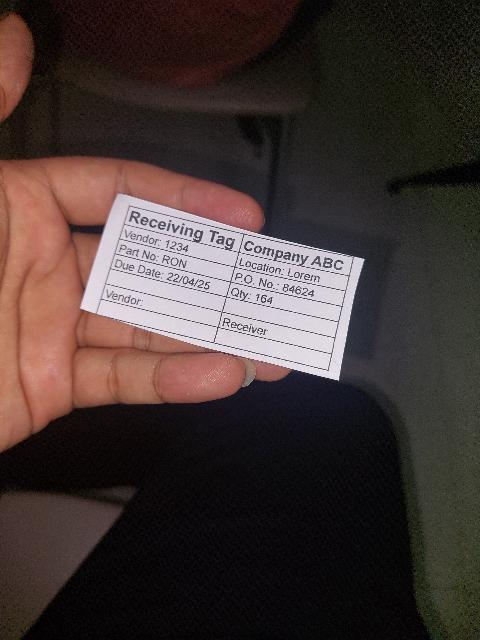PO no: (231, 267, 345, 306)
part no: (115, 239, 235, 281)
qty: (226, 281, 343, 322)
tags: (81, 194, 364, 380)
